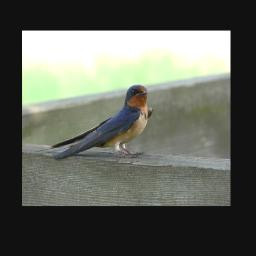Swallow: (33, 83, 154, 162)
